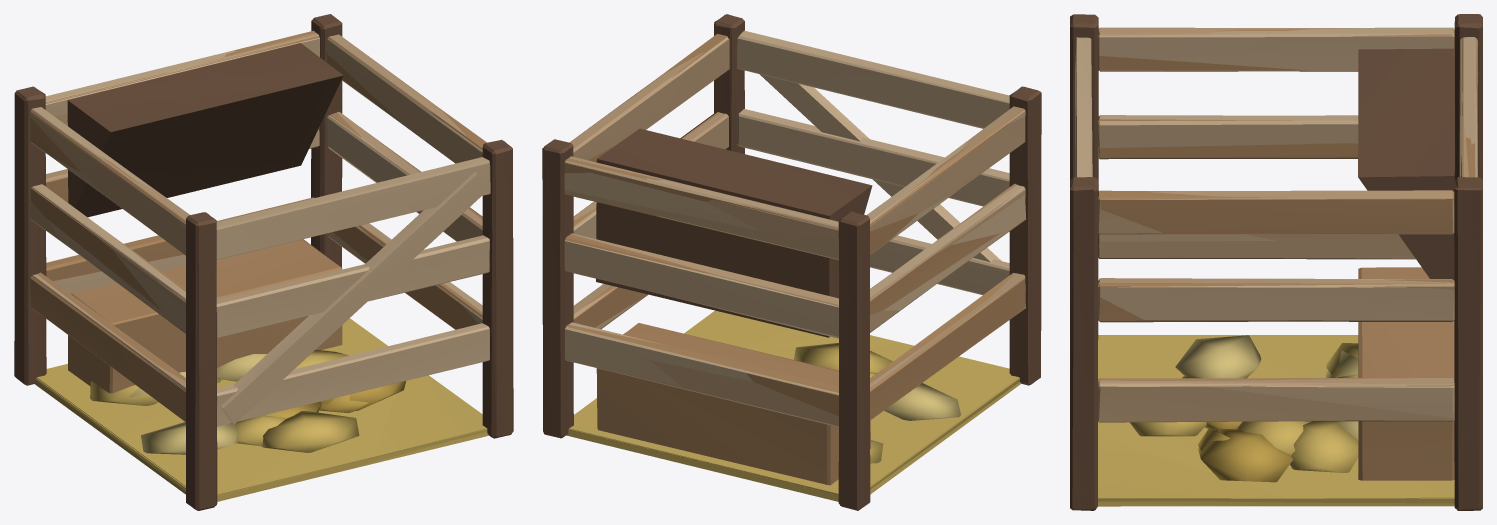
The model's file is barn.stall.glb.
The picture shows the model from 3 angles, left to right: view 1: azimuth 30°, elevation 25°; view 2: azimuth 150°, elevation 25°; view 3: azimuth 270°, elevation 25°; orthographic projection. The views are drawn at different scales.
Visible parts, largest first — view 1: barn.stall.v2.mesh, barn.stall.v1.mesh, barn.stall.v0.mesh; view 2: barn.stall.v0.mesh, barn.stall.v2.mesh, barn.stall.v1.mesh; view 3: barn.stall.v0.mesh, barn.stall.v2.mesh, barn.stall.v1.mesh.
Boxes of the visible parts, x1,y1,x2,y2 form: barn.stall.v2.mesh: (14, 14, 513, 510); barn.stall.v1.mesh: (14, 14, 512, 510); barn.stall.v0.mesh: (14, 14, 513, 508); barn.stall.v0.mesh: (542, 14, 1041, 509); barn.stall.v2.mesh: (543, 14, 1040, 510); barn.stall.v1.mesh: (543, 14, 1040, 509); barn.stall.v0.mesh: (1070, 14, 1482, 510); barn.stall.v2.mesh: (1070, 14, 1482, 510); barn.stall.v1.mesh: (1070, 14, 1482, 510).
Bounding box in the file's own units: 1.5 × 1.3 × 1.5.
